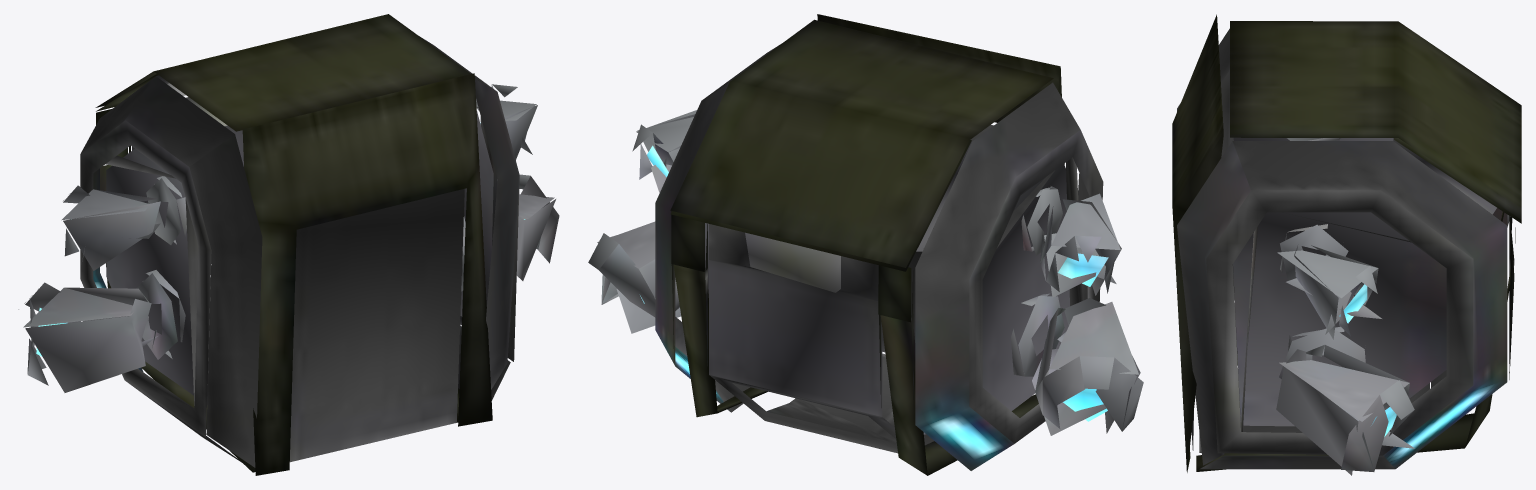
Rendered from jetpack.glb.
3 renders of one model, left to right at view 1: azimuth 30°, elevation 25°; view 2: azimuth 150°, elevation 25°; view 3: azimuth 270°, elevation 25°, orthographic.
Parts seen in each view (by area): view 1: GEN_jetpack; view 2: GEN_jetpack; view 3: GEN_jetpack.
Boxes of the visible parts, left/top/right/bottom form: GEN_jetpack: left=18, top=14, right=559, bottom=475; GEN_jetpack: left=588, top=14, right=1143, bottom=475; GEN_jetpack: left=1172, top=14, right=1521, bottom=475.
Size of the model in its own units: 0.6004 by 0.3796 by 0.3355.
Materials: 1 (1 with a texture image).
